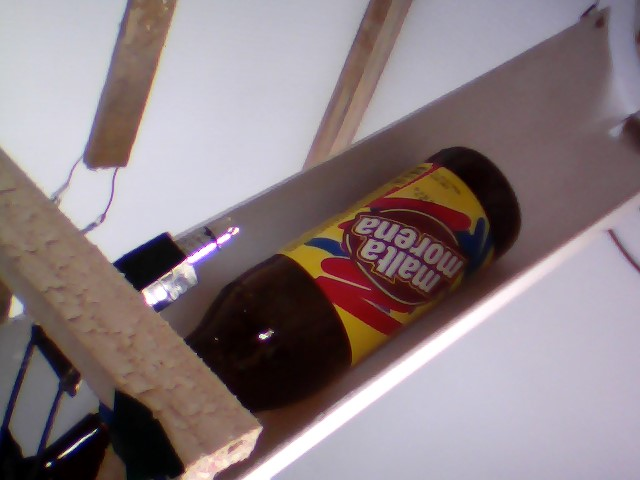vidrio: (189, 139, 529, 419)
